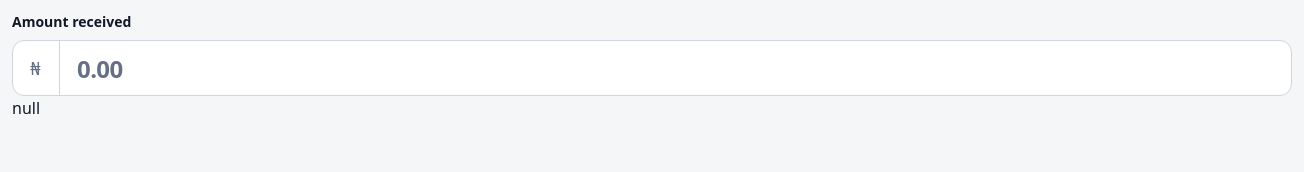
it: MoneyInput › shows an inline error for 1e3 and keeps the text as typed
Type "1e3" into the field labelled "Amount received" at (652, 68), box [12,40,1292,96]
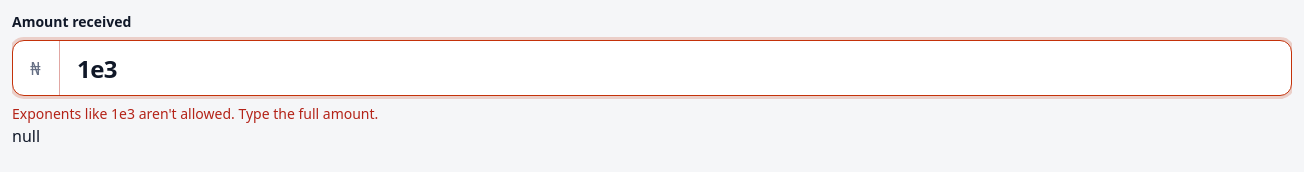
Expected: the text with test id "kobo" reads "null", [12,125,40,147]
Now the message reads "Exponents like 1e3 aren't allowed. Type the full amount.", box [12,104,378,123]
